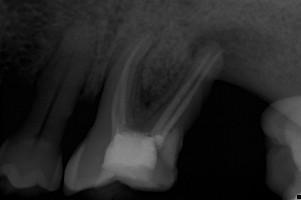Dental Caries: (188, 24, 280, 68), (138, 62, 187, 108)
